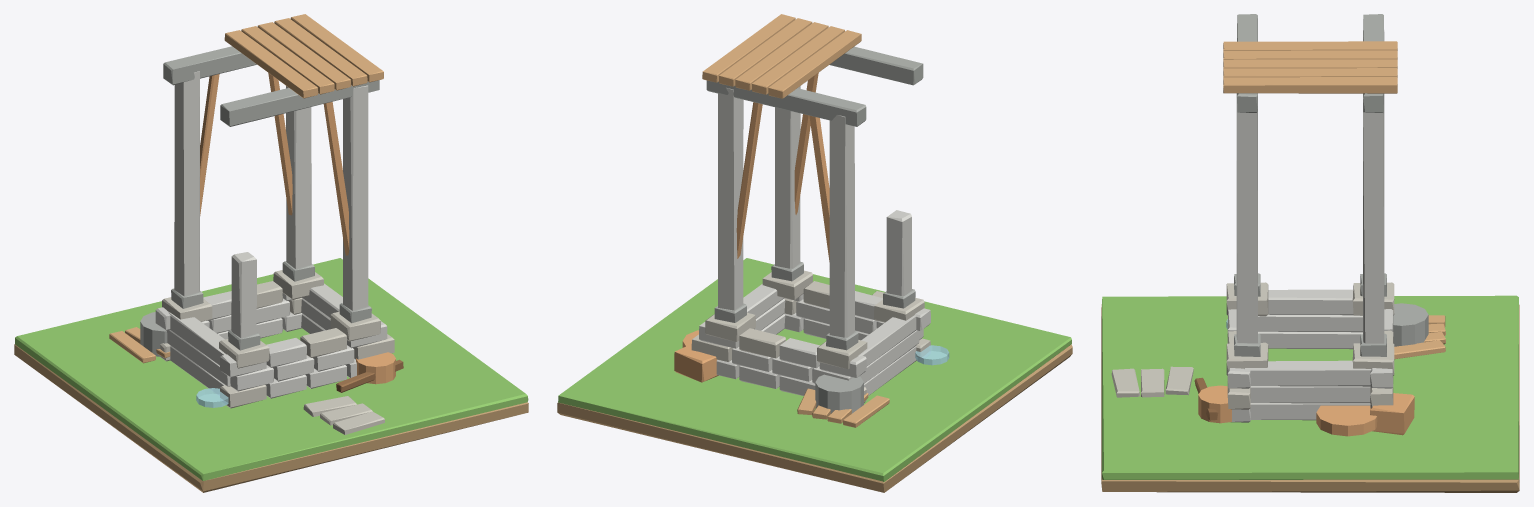
The model's file is tower_l06_damaged_LOD1.glb.
3 renders of one model, left to right at view 1: azimuth 30°, elevation 25°; view 2: azimuth 150°, elevation 25°; view 3: azimuth 270°, elevation 25°, orthographic. The views are drawn at different scales.
Visible parts, largest first — view 1: tower_l06_grass_tile_tower_l06_damaged_LOD1_tmp, tower_l06_earth_tile_tower_l06_damaged_LOD1_tmp, post_-0.61_0.54_tower_l06_damaged_LOD1_tmp, post_0.61_-0.54_tower_l06_damaged_LOD1_tmp, post_0.61_0.54_tower_l06_damaged_LOD1_tmp, deck_bearer_-0.54_tower_l06_damaged_LOD1_tmp, post_-0.61_-0.54_tower_l06_damaged_LOD1_tmp, deck_bearer_0.54_tower_l06_damaged_LOD1_tmp, deck_board_4_tower_l06_damaged_LOD1_tmp, deck_board_5_tower_l06_damaged_LOD1_tmp, deck_board_7_tower_l06_damaged_LOD1_tmp, deck_board_6_tower_l06_damaged_LOD1_tmp (+31 smaller); view 2: tower_l06_grass_tile_tower_l06_damaged_LOD1_tmp, tower_l06_earth_tile_tower_l06_damaged_LOD1_tmp, post_-0.61_0.54_tower_l06_damaged_LOD1_tmp, post_0.61_0.54_tower_l06_damaged_LOD1_tmp, post_0.61_-0.54_tower_l06_damaged_LOD1_tmp, deck_bearer_0.54_tower_l06_damaged_LOD1_tmp, post_-0.61_-0.54_tower_l06_damaged_LOD1_tmp, deck_bearer_-0.54_tower_l06_damaged_LOD1_tmp, deck_board_4_tower_l06_damaged_LOD1_tmp, fallen_relay_tower_l06_damaged_LOD1_tmp, deck_board_7_tower_l06_damaged_LOD1_tmp, deck_board_8_tower_l06_damaged_LOD1_tmp (+25 smaller); view 3: tower_l06_grass_tile_tower_l06_damaged_LOD1_tmp, tower_l06_earth_tile_tower_l06_damaged_LOD1_tmp, post_0.61_0.54_tower_l06_damaged_LOD1_tmp, post_0.61_-0.54_tower_l06_damaged_LOD1_tmp, deck_board_8_tower_l06_damaged_LOD1_tmp, stone_return_2_0.72_tower_l06_damaged_LOD1_tmp, stone_return_2_-0.72_tower_l06_damaged_LOD1_tmp, stone_return_1_0.72_tower_l06_damaged_LOD1_tmp, stone_return_1_-0.72_tower_l06_damaged_LOD1_tmp, deck_board_4_tower_l06_damaged_LOD1_tmp, deck_board_5_tower_l06_damaged_LOD1_tmp, deck_board_6_tower_l06_damaged_LOD1_tmp (+20 smaller).
Part boxes in pixels (left/top/right/bottom): tower_l06_grass_tile_tower_l06_damaged_LOD1_tmp: left=15, top=258, right=528, bottom=480; tower_l06_earth_tile_tower_l06_damaged_LOD1_tmp: left=14, top=344, right=528, bottom=492; post_-0.61_0.54_tower_l06_damaged_LOD1_tmp: left=174, top=71, right=199, bottom=296; post_0.61_-0.54_tower_l06_damaged_LOD1_tmp: left=343, top=85, right=368, bottom=310; post_0.61_0.54_tower_l06_damaged_LOD1_tmp: left=286, top=86, right=311, bottom=268; deck_bearer_-0.54_tower_l06_damaged_LOD1_tmp: left=220, top=80, right=379, bottom=126; post_-0.61_-0.54_tower_l06_damaged_LOD1_tmp: left=231, top=252, right=256, bottom=337; deck_bearer_0.54_tower_l06_damaged_LOD1_tmp: left=163, top=46, right=256, bottom=85; deck_board_4_tower_l06_damaged_LOD1_tmp: left=224, top=30, right=318, bottom=98; deck_board_5_tower_l06_damaged_LOD1_tmp: left=241, top=26, right=334, bottom=94; deck_board_7_tower_l06_damaged_LOD1_tmp: left=274, top=18, right=367, bottom=86; deck_board_6_tower_l06_damaged_LOD1_tmp: left=257, top=22, right=350, bottom=90; tower_l06_grass_tile_tower_l06_damaged_LOD1_tmp: left=558, top=258, right=1071, bottom=481; tower_l06_earth_tile_tower_l06_damaged_LOD1_tmp: left=557, top=344, right=1072, bottom=492; post_-0.61_0.54_tower_l06_damaged_LOD1_tmp: left=829, top=115, right=854, bottom=337; post_0.61_0.54_tower_l06_damaged_LOD1_tmp: left=718, top=87, right=743, bottom=310; post_0.61_-0.54_tower_l06_damaged_LOD1_tmp: left=775, top=86, right=800, bottom=268; deck_bearer_0.54_tower_l06_damaged_LOD1_tmp: left=706, top=80, right=866, bottom=126; post_-0.61_-0.54_tower_l06_damaged_LOD1_tmp: left=886, top=210, right=911, bottom=295; deck_bearer_-0.54_tower_l06_damaged_LOD1_tmp: left=829, top=46, right=923, bottom=85; deck_board_4_tower_l06_damaged_LOD1_tmp: left=768, top=30, right=861, bottom=98; fallen_relay_tower_l06_damaged_LOD1_tmp: left=815, top=374, right=863, bottom=413; deck_board_7_tower_l06_damaged_LOD1_tmp: left=719, top=18, right=812, bottom=86; deck_board_8_tower_l06_damaged_LOD1_tmp: left=702, top=14, right=795, bottom=82; tower_l06_grass_tile_tower_l06_damaged_LOD1_tmp: left=1102, top=295, right=1518, bottom=479; tower_l06_earth_tile_tower_l06_damaged_LOD1_tmp: left=1101, top=304, right=1519, bottom=492; post_0.61_0.54_tower_l06_damaged_LOD1_tmp: left=1363, top=94, right=1384, bottom=343; post_0.61_-0.54_tower_l06_damaged_LOD1_tmp: left=1236, top=93, right=1257, bottom=343; deck_board_8_tower_l06_damaged_LOD1_tmp: left=1223, top=77, right=1397, bottom=93; stone_return_2_0.72_tower_l06_damaged_LOD1_tmp: left=1244, top=360, right=1371, bottom=386; stone_return_2_-0.72_tower_l06_damaged_LOD1_tmp: left=1268, top=289, right=1353, bottom=315; stone_return_1_0.72_tower_l06_damaged_LOD1_tmp: left=1250, top=386, right=1370, bottom=403; stone_return_1_-0.72_tower_l06_damaged_LOD1_tmp: left=1258, top=314, right=1362, bottom=332; deck_board_4_tower_l06_damaged_LOD1_tmp: left=1223, top=41, right=1397, bottom=51; deck_board_5_tower_l06_damaged_LOD1_tmp: left=1223, top=50, right=1397, bottom=60; deck_board_6_tower_l06_damaged_LOD1_tmp: left=1223, top=59, right=1397, bottom=69.
Bounding box in the file's own units: 3.6 × 3.41 × 3.58.
